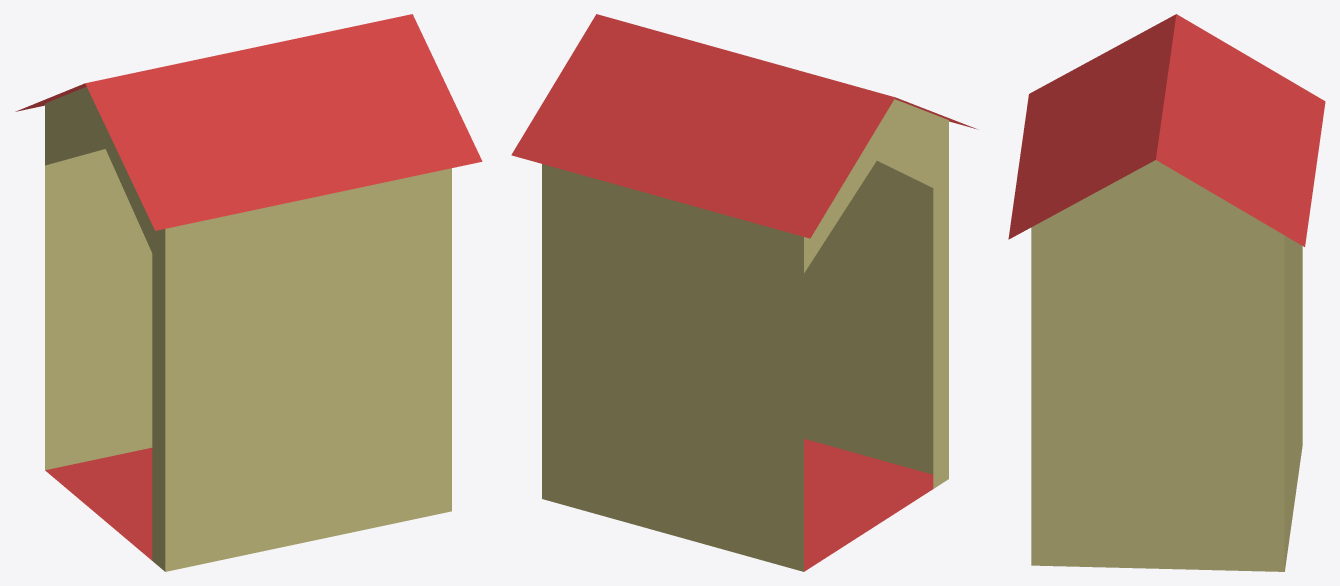
3 renders of one model, left to right at view 1: azimuth 30°, elevation 25°; view 2: azimuth 150°, elevation 25°; view 3: azimuth 270°, elevation 25°, orthographic. The views are drawn at different scales.
Bounding box in the file's own units: 8.43 × 7.37 × 10.71.
